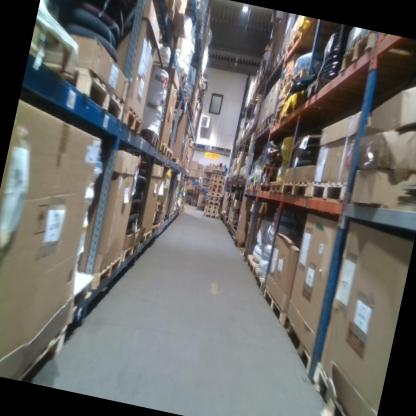pallet: (26, 56, 132, 120), (0, 303, 71, 388), (276, 317, 320, 374), (81, 244, 122, 302), (111, 98, 146, 143), (257, 285, 292, 329), (307, 175, 350, 207), (281, 173, 314, 206), (117, 232, 142, 273), (135, 121, 162, 157), (299, 74, 325, 111), (283, 66, 306, 99), (153, 0, 180, 27), (248, 265, 269, 296), (284, 28, 301, 57), (266, 175, 285, 200), (134, 224, 152, 250), (174, 64, 191, 89), (243, 253, 261, 276), (276, 72, 292, 95), (181, 94, 195, 117), (261, 162, 281, 178), (262, 109, 275, 132), (270, 113, 285, 132), (156, 137, 169, 157), (148, 219, 161, 238), (231, 237, 246, 253), (257, 181, 271, 195), (152, 200, 165, 215), (227, 215, 239, 228), (257, 118, 265, 137), (164, 146, 174, 161), (164, 207, 175, 220), (156, 215, 165, 230), (191, 0, 203, 11), (206, 190, 222, 198), (204, 203, 220, 211), (209, 178, 224, 186), (250, 180, 259, 193), (253, 123, 260, 139), (211, 168, 225, 176), (208, 182, 224, 189), (207, 186, 223, 193), (203, 208, 219, 215), (230, 206, 241, 216), (205, 195, 220, 202), (205, 199, 220, 206), (244, 182, 253, 193), (210, 173, 224, 180), (251, 120, 258, 132), (203, 212, 216, 218), (246, 150, 253, 157), (245, 129, 249, 138), (239, 173, 244, 180), (234, 174, 239, 181), (243, 172, 247, 180), (237, 173, 243, 178), (248, 127, 251, 135)
pallet_truck: (186, 174, 202, 207)
